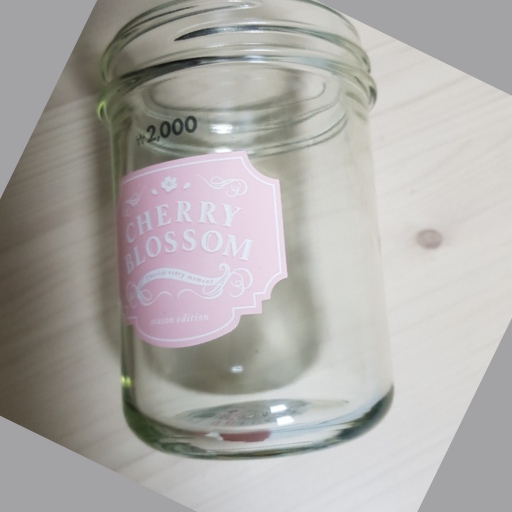Glass_5: (97, 1, 393, 459)
